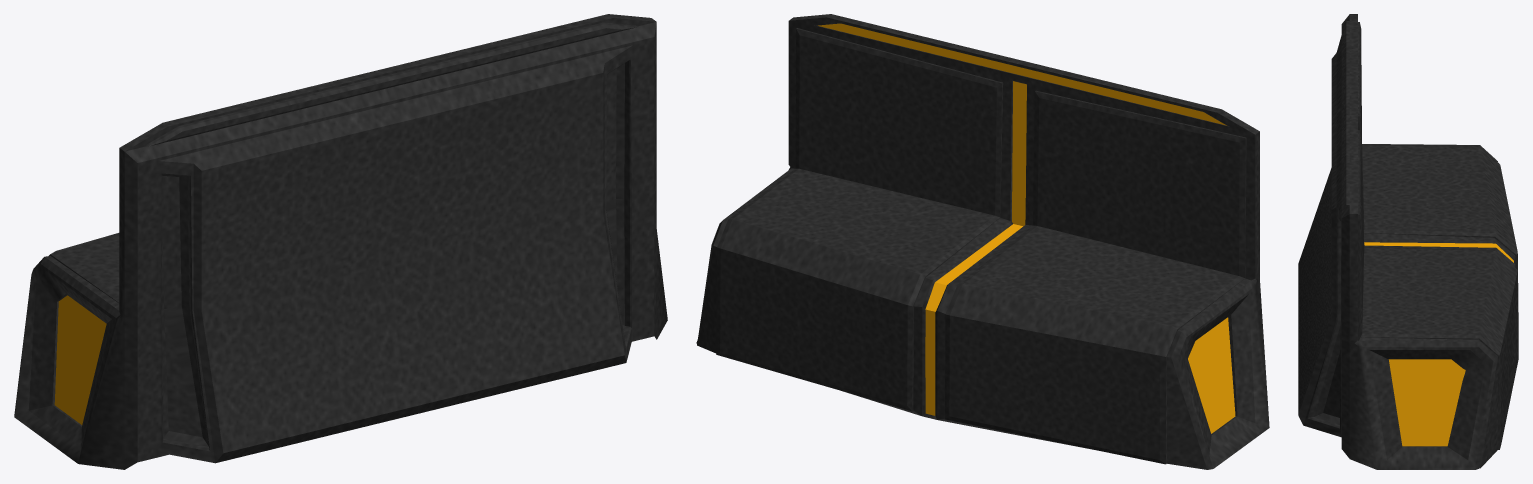
File: FUR0310010.fbx
3 renders of one model, left to right at view 1: azimuth 30°, elevation 25°; view 2: azimuth 150°, elevation 25°; view 3: azimuth 270°, elevation 25°, orthographic. The views are drawn at different scales.
Parts seen in each view (by area): view 1: smFUR0310010; view 2: smFUR0310010; view 3: smFUR0310010.
Part boxes in pixels (x1=…): smFUR0310010: x1=14, y1=14, x2=667, y2=469; smFUR0310010: x1=696, y1=14, x2=1269, y2=469; smFUR0310010: x1=1298, y1=14, x2=1518, y2=469.
Size of the model in its own units: 273 by 147 by 115.
1 material, 1 textured.
